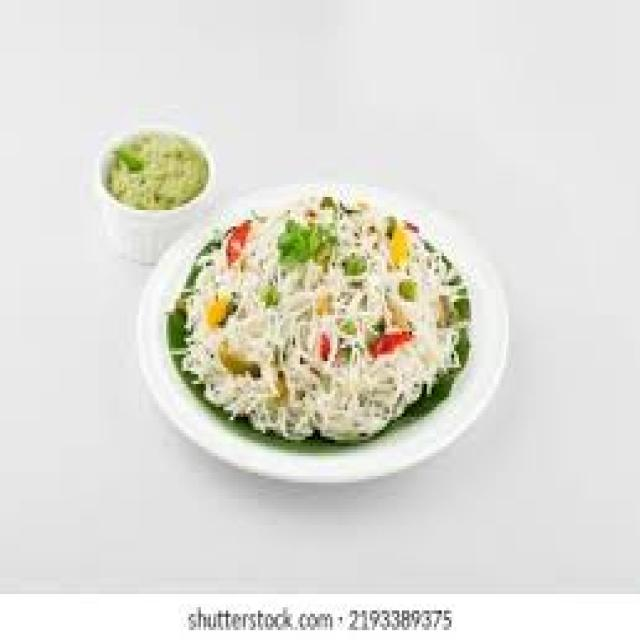UPMA: (169, 187, 464, 440)
